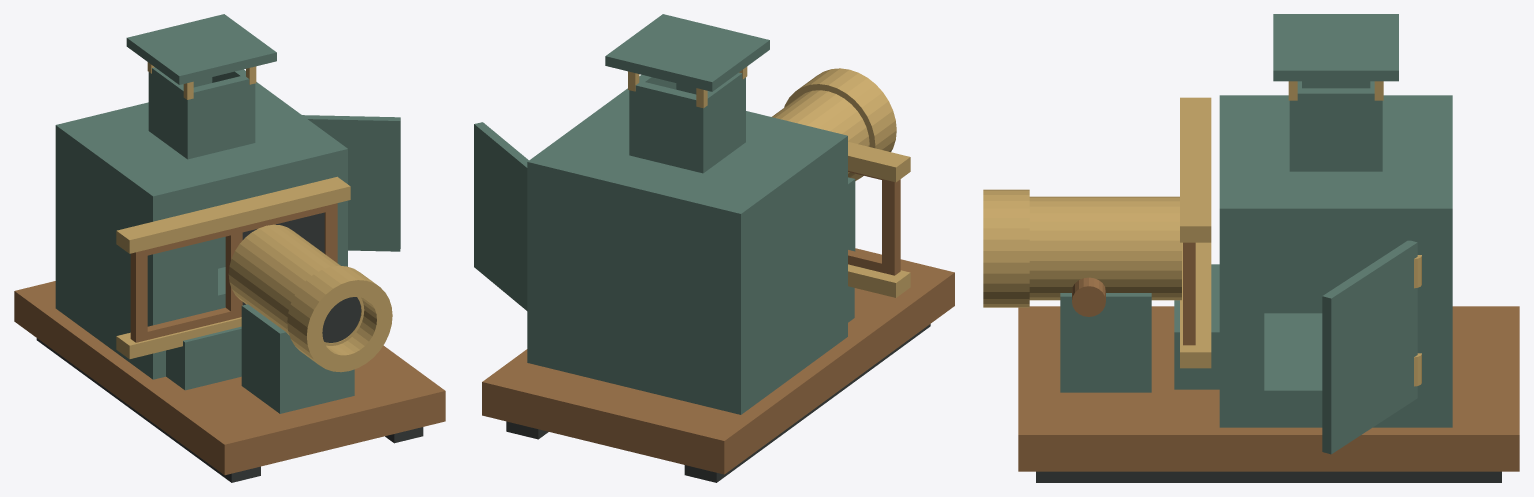
The picture shows the model from 3 angles, left to right: view 1: azimuth 30°, elevation 25°; view 2: azimuth 150°, elevation 25°; view 3: azimuth 270°, elevation 25°; orthographic projection. The views are drawn at different scales.
Visible parts, largest first — view 1: WholeHollowLampChamberWithSideAccess, WholeLongCommonBed, WholeSideAccessDoor, WholeOpenSquareChimney, WholeForwardLensHood, WholeLensSupportSaddle, WholeLongLensHousing, WholeRaisedChimneyCap, WholeCarrierFixedGuide_1, WholeTransverseTwoApertureSlideCarrier, WholeCarrierLowerSeat, WholeCarrierFixedGuide_0 (+3 smaller); view 2: WholeHollowLampChamberWithSideAccess, WholeLongCommonBed, WholeOpenSquareChimney, WholeSideAccessDoor, WholeRaisedChimneyCap, WholeForwardLensHood, WholeLongLensHousing, WholeTransverseTwoApertureSlideCarrier, WholeCarrierFixedGuide_1, WholeCarrierFixedGuide_0, WholeGroundFoot_0, WholeLensSupportSaddle; view 3: WholeHollowLampChamberWithSideAccess, WholeLongCommonBed, WholeSideAccessDoor, WholeLongLensHousing, WholeRaisedChimneyCap, WholeLensSupportSaddle, WholeOpenSquareChimney, WholeForwardLensHood, WholeGroundFoot_1, WholeCarrierFixedGuide_1, WholeCarrierFixedGuide_0, WholeCarrierLowerSeat (+2 smaller).
Part boxes in pixels (x1,y1,x2,y2): WholeHollowLampChamberWithSideAccess: (55,82,347,379); WholeLongCommonBed: (14,281,445,475); WholeSideAccessDoor: (302,115,400,251); WholeOpenSquareChimney: (148,67,255,159); WholeForwardLensHood: (287,265,392,372); WholeLensSupportSaddle: (241,304,354,413); WholeLongLensHousing: (228,224,364,345); WholeRaisedChimneyCap: (126,14,276,84); WholeCarrierFixedGuide_1: (116,176,350,253); WholeTransverseTwoApertureSlideCarrier: (130,203,337,342); WholeCarrierLowerSeat: (166,326,241,390); WholeCarrierFixedGuide_0: (116,317,241,359); WholeHollowLampChamberWithSideAccess: (527,88,847,414); WholeLongCommonBed: (482,248,954,474); WholeOpenSquareChimney: (629,72,745,173); WholeSideAccessDoor: (474,122,528,310); WholeRaisedChimneyCap: (605,14,769,91); WholeForwardLensHood: (784,68,896,180); WholeLongLensHousing: (772,90,869,177); WholeTransverseTwoApertureSlideCarrier: (848,170,900,275); WholeCarrierFixedGuide_1: (848,142,910,182); WholeCarrierFixedGuide_0: (848,264,910,297); WholeGroundFoot_0: (684,324,930,482); WholeLensSupportSaddle: (848,177,855,251); WholeHollowLampChamberWithSideAccess: (1219,95,1452,427); WholeLongCommonBed: (1018,306,1519,471); WholeSideAccessDoor: (1322,240,1417,454); WholeLongLensHousing: (1029,196,1181,300); WholeRaisedChimneyCap: (1273,14,1398,81); WholeLensSupportSaddle: (1060,293,1151,392); WholeOpenSquareChimney: (1289,81,1382,171); WholeForwardLensHood: (983,189,1029,307); WholeGroundFoot_1: (1036,471,1501,482); WholeCarrierFixedGuide_1: (1180,97,1211,242); WholeCarrierFixedGuide_0: (1180,242,1211,368); WholeCarrierLowerSeat: (1174,264,1219,389).
Size of the model in its own units: 0.5147 by 0.474 by 0.599.
